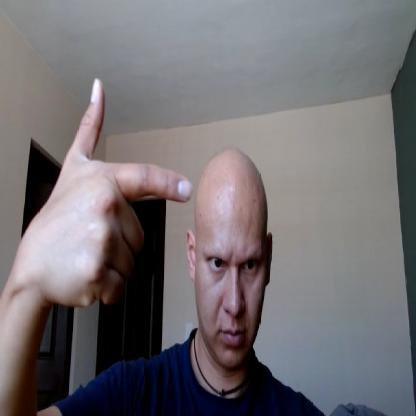G: (41, 76, 194, 308)
